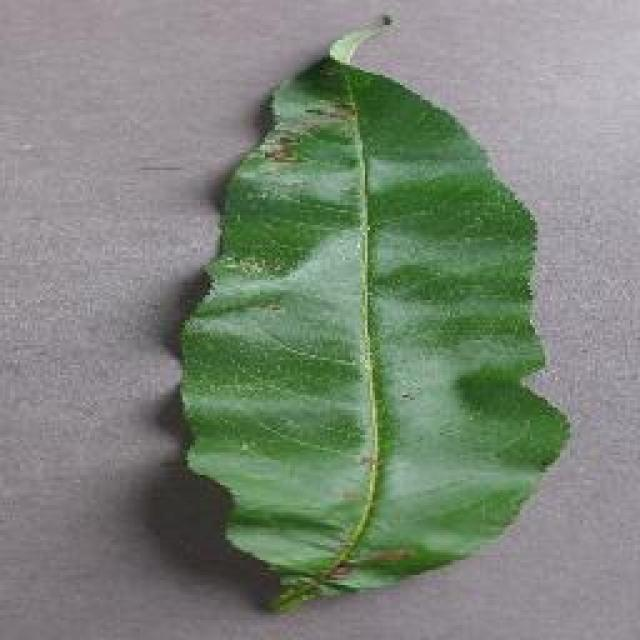Peach_Bacterial_Spot: (240, 73, 462, 587)
